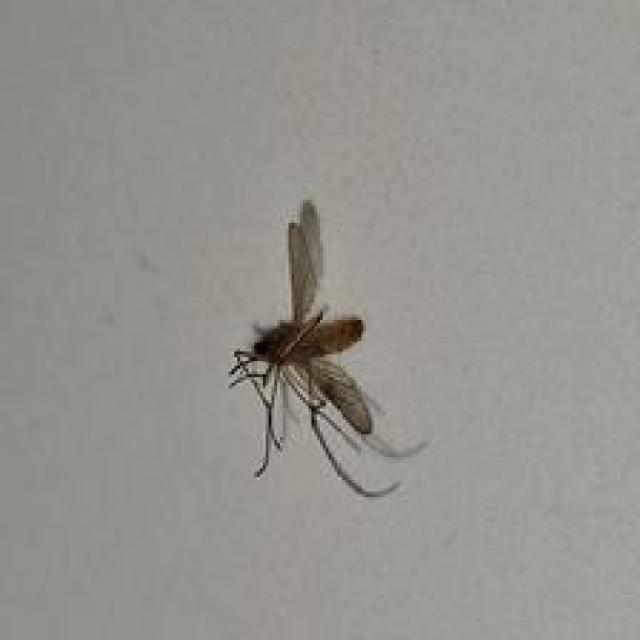Culex: (226, 197, 428, 500)
